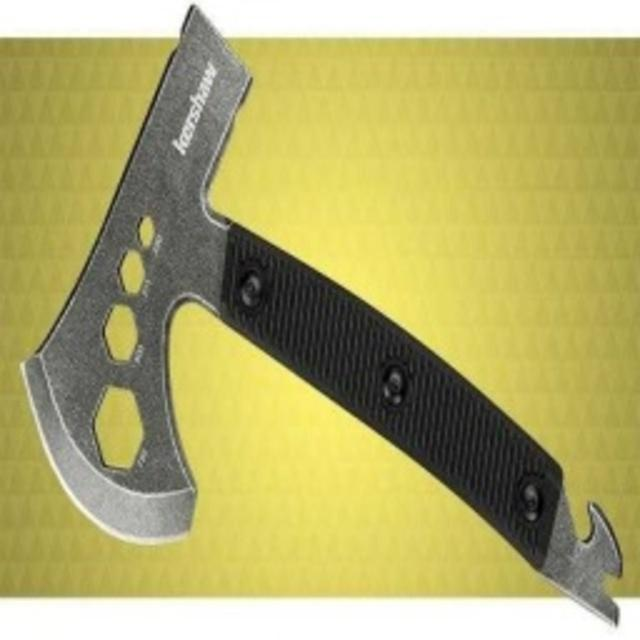ax: (22, 6, 628, 626)
